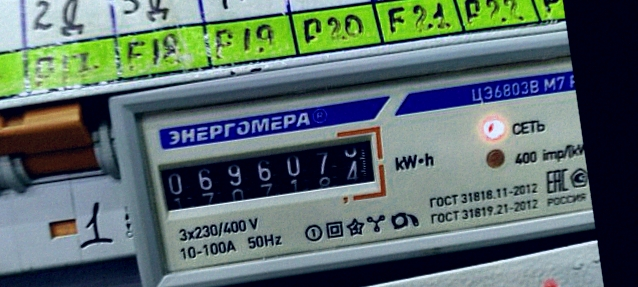0: (165, 170, 185, 196), (284, 151, 302, 178)
4: (342, 158, 361, 184)
6: (195, 165, 215, 192), (254, 156, 274, 182)
7: (314, 149, 332, 177)
9: (225, 161, 244, 187)
screen: (143, 119, 393, 226)
